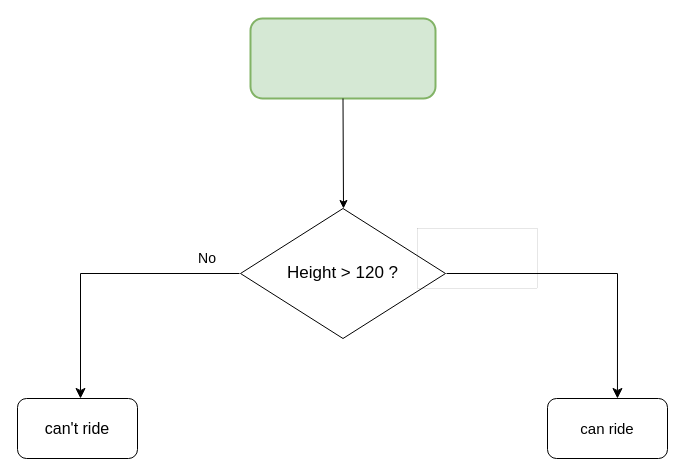
Some shapes in this 685 by 476 pixel diagram are drawn without their labels. The box of each missing label's shape, as (x1, y1, x2, y2) in pixels:
Start: (249, 17, 436, 99)
Yes: (417, 228, 537, 288)
